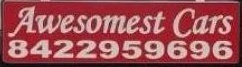character: (7, 5, 36, 37), (172, 7, 194, 38), (29, 38, 53, 58), (7, 38, 28, 58), (52, 38, 73, 58), (75, 38, 96, 58), (98, 38, 119, 58), (143, 39, 164, 59), (189, 39, 209, 59), (212, 39, 232, 59), (166, 39, 187, 58), (121, 39, 141, 58)
